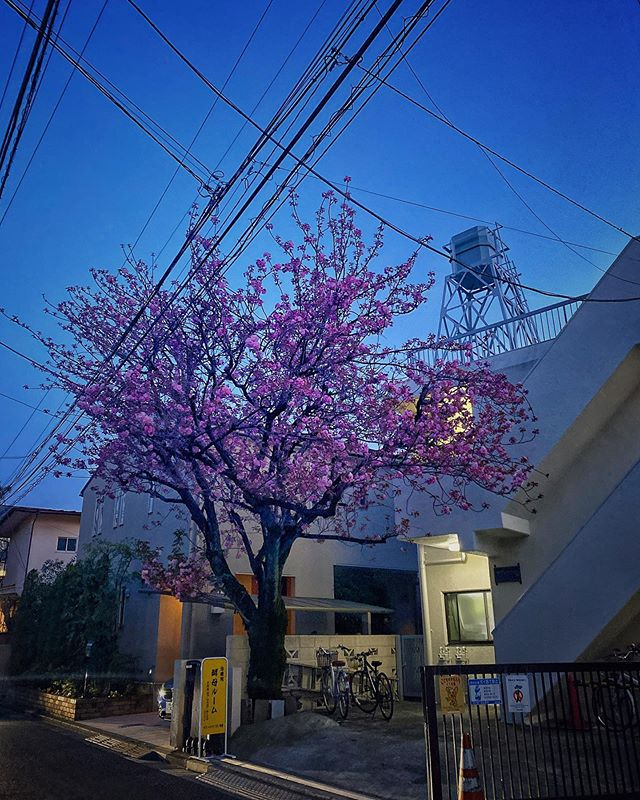bicicle: (587, 644, 640, 736), (355, 658, 401, 720), (310, 654, 352, 721)
sign: (437, 675, 547, 719), (190, 646, 236, 738)
sky: (31, 1, 640, 481)
tree: (57, 253, 485, 688)
vegetation: (4, 566, 112, 697)
